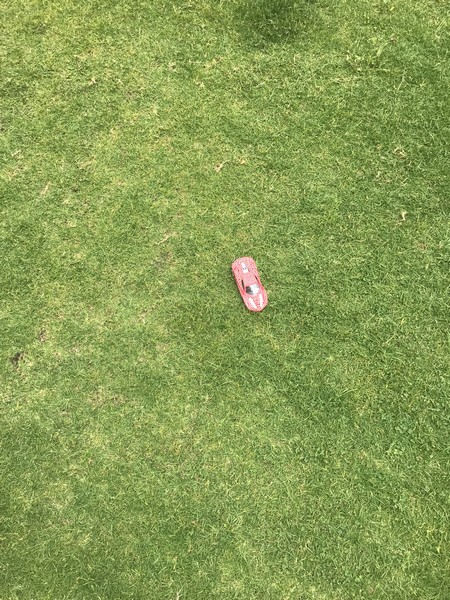RC: (230, 253, 269, 315)
